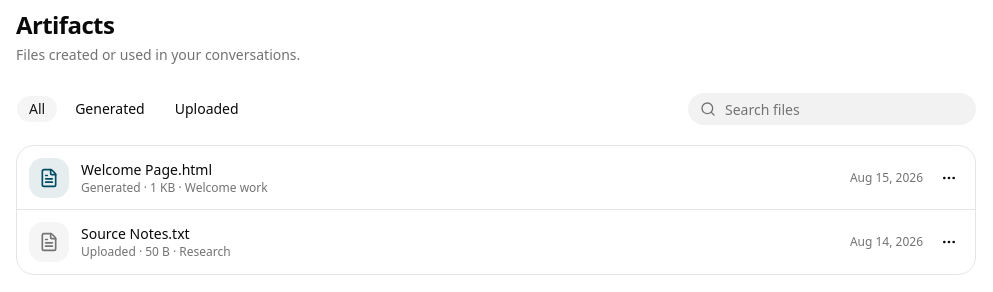
Test case: ArtifactsLibrary › filters the library by origin
The width and height of the screenshot is (993, 292).
Check: the text "Welcome Page.html" is shown, box [81,160,212,178]
Click the button "Uploaded". click: (207, 109)
box: [162,95,252,123]
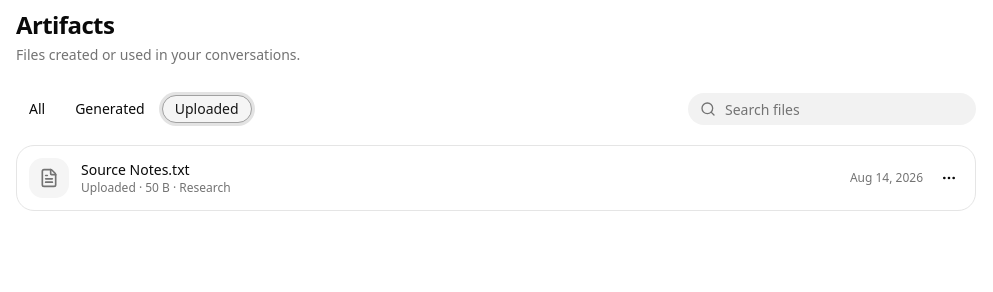
Check: the text "Source Notes.txt" is shown, box [81,160,190,179]
Check: the button "Welcome Page.html" is gone
